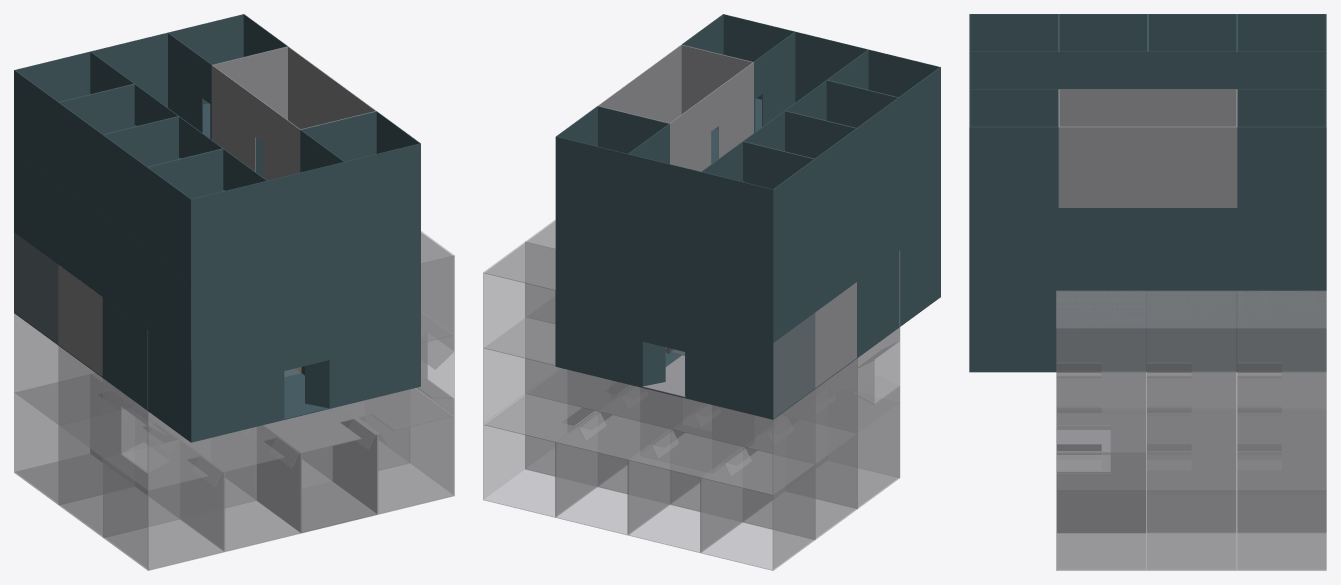
The model's file is 第十一组 2.glb.
3 renders of one model, left to right at view 1: azimuth 30°, elevation 25°; view 2: azimuth 150°, elevation 25°; view 3: azimuth 270°, elevation 25°, orthographic. The views are drawn at different scales.
Size of the model in its own units: 0.02 by 0.0251 by 0.02.
